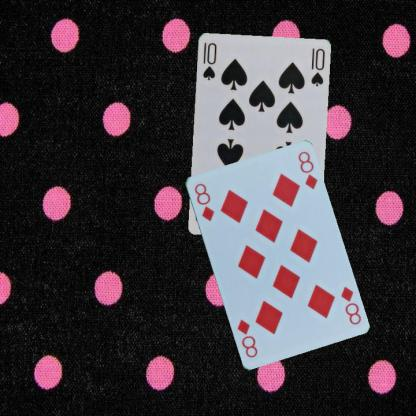10s: (200, 40, 218, 82)
8d: (191, 180, 216, 223), (338, 284, 362, 326)
